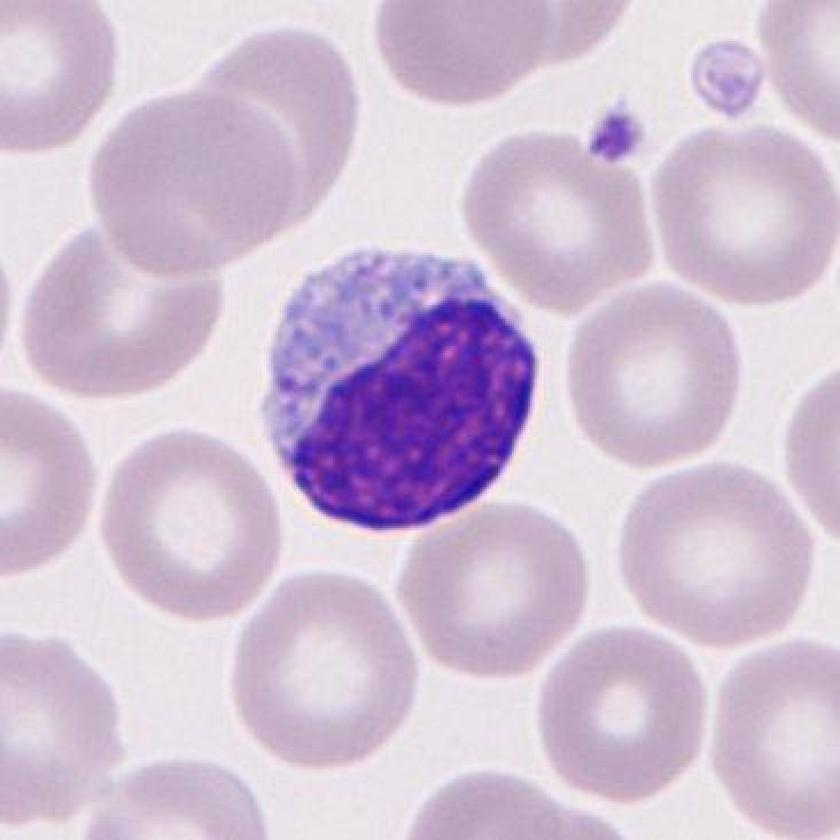lymphocyte: (247, 231, 559, 545)
platelets: (688, 41, 768, 119), (582, 104, 653, 166)
